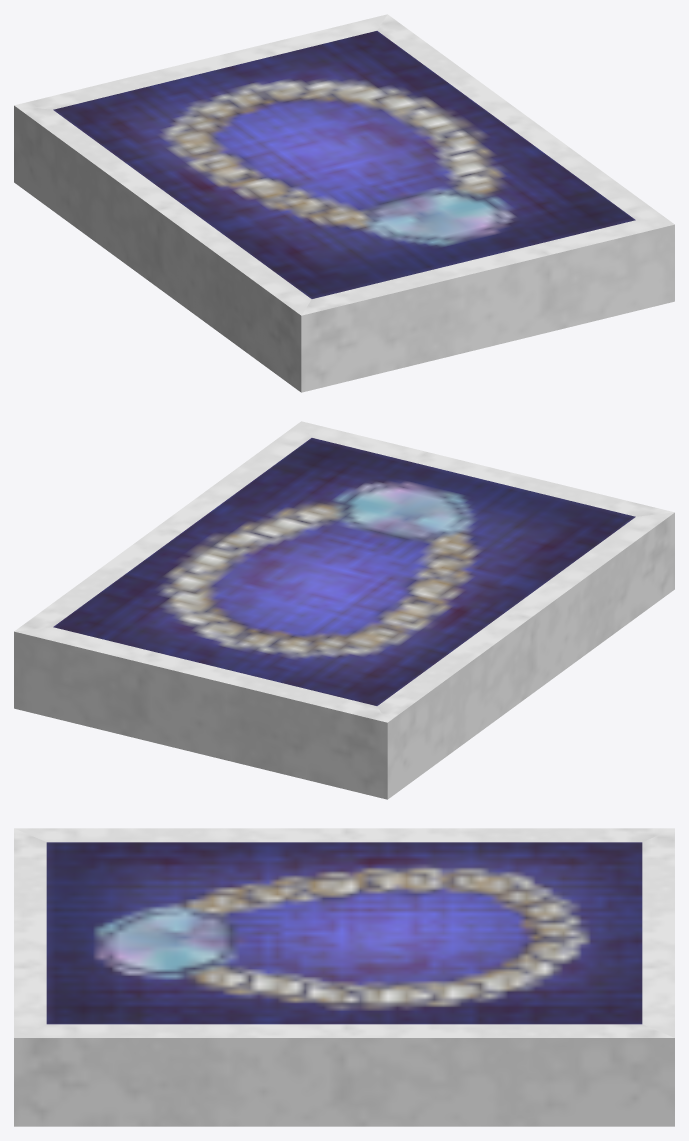
Rendered from giftgoods101c.fbx.
3 views of the same model, one above another, from view 1: azimuth 30°, elevation 25°; view 2: azimuth 150°, elevation 25°; view 3: azimuth 270°, elevation 25° (orthographic). The views are drawn at different scales.
Parts seen in each view (by area): view 1: giftgoods101c; view 2: giftgoods101c; view 3: giftgoods101c.
Boxes of the visible parts, x1,y1,x2,y2 form: giftgoods101c: (14, 14, 674, 392); giftgoods101c: (14, 421, 674, 799); giftgoods101c: (14, 828, 674, 1126).
Size of the model in its own units: 0.1575 by 0.031 by 0.2098.
